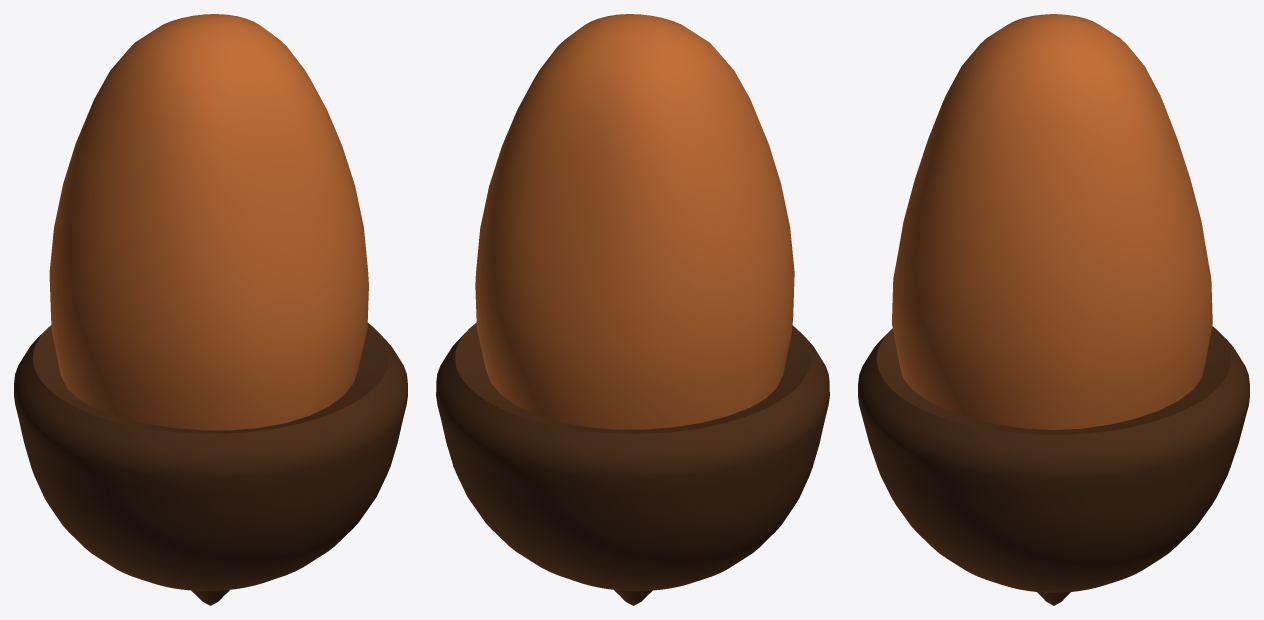
The model's file is lizi.fbx.
The picture shows the model from 3 angles, left to right: view 1: azimuth 30°, elevation 25°; view 2: azimuth 150°, elevation 25°; view 3: azimuth 270°, elevation 25°; orthographic projection.
Parts seen in each view (by area): view 1: Sphere002; view 2: Sphere002; view 3: Sphere002.
Part boxes in pixels (x1,y1,x2,y2): Sphere002: [14, 14, 407, 605]; Sphere002: [436, 14, 829, 605]; Sphere002: [858, 14, 1249, 605].
Size of the model in its own units: 43.87 by 71.66 by 43.76.
